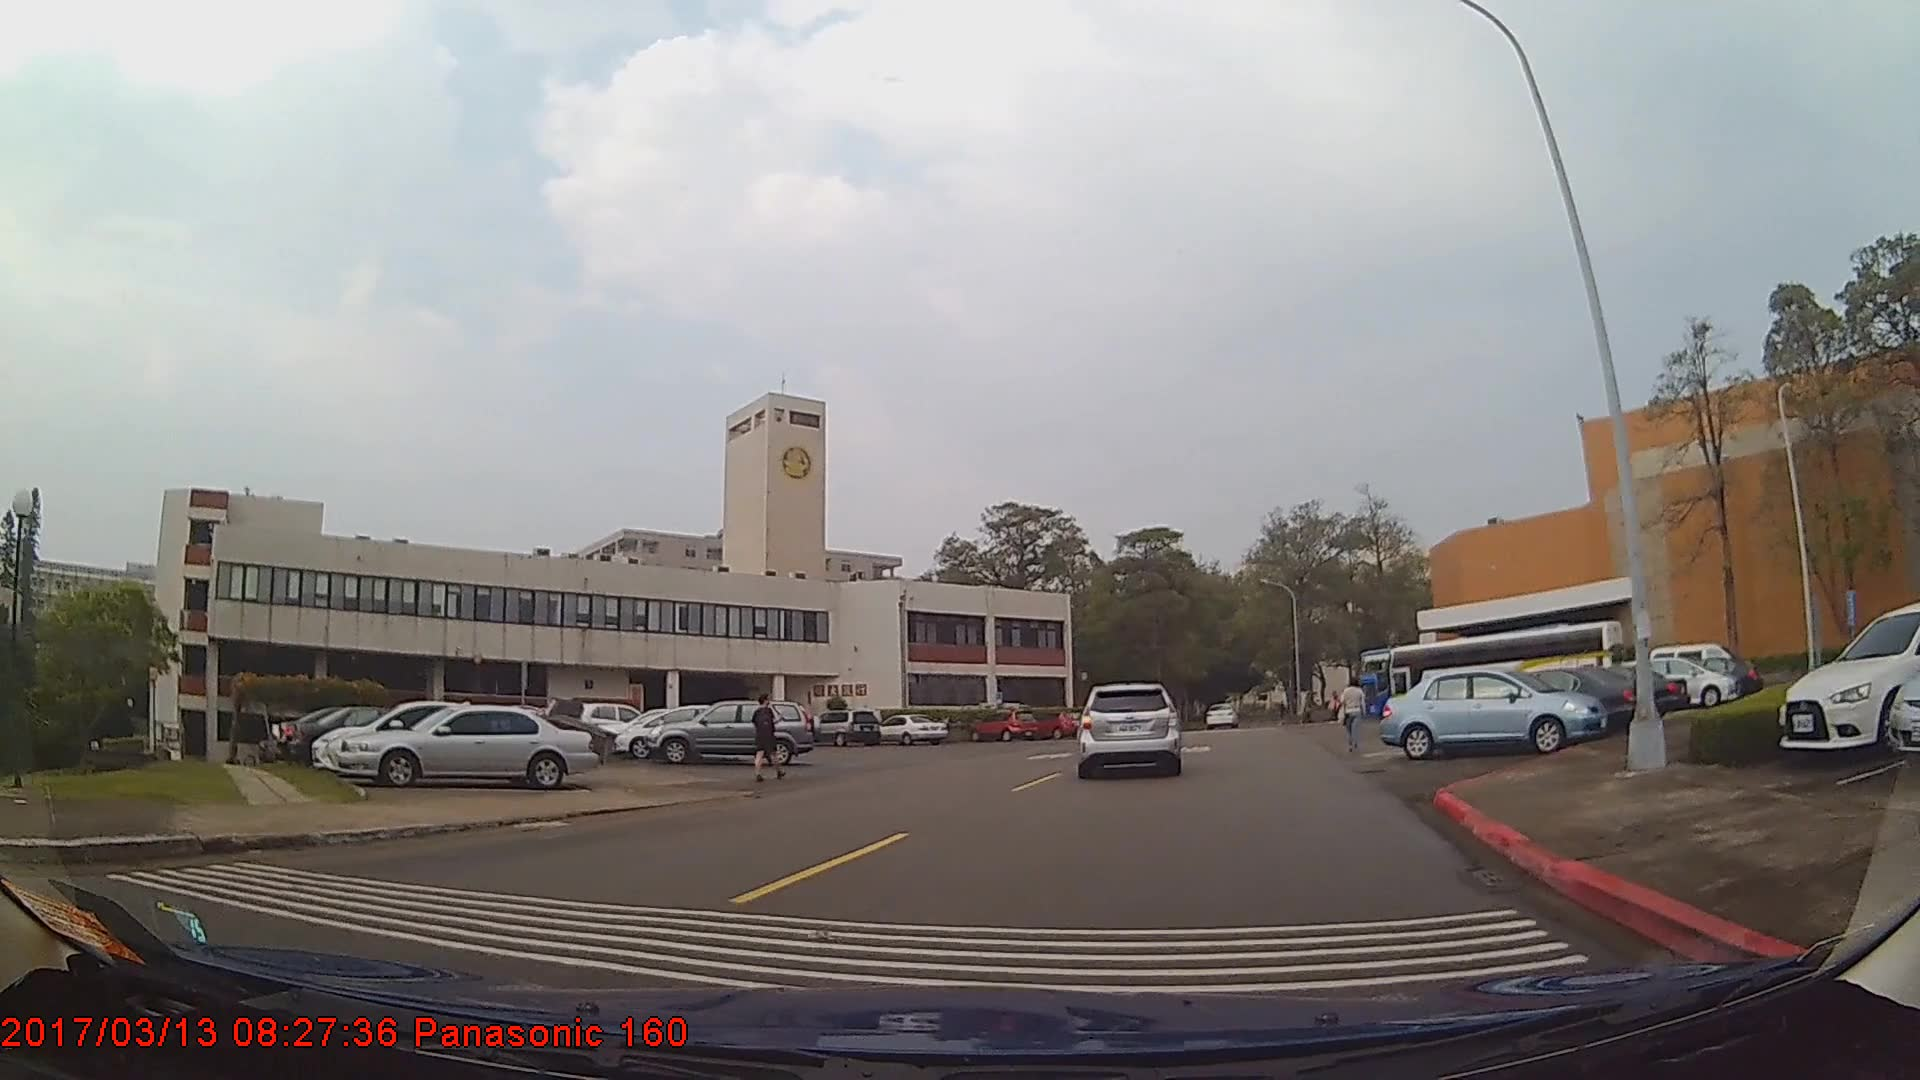pedestrian: (748, 693, 781, 781), (1340, 678, 1368, 752)
vehicle: (332, 703, 598, 789), (1379, 664, 1610, 758), (1778, 602, 1920, 750), (307, 697, 530, 776), (1451, 664, 1649, 732), (642, 699, 819, 765), (289, 704, 473, 765), (1078, 680, 1180, 780), (1519, 663, 1686, 720), (613, 704, 753, 762), (1624, 655, 1742, 703), (578, 700, 657, 745), (808, 708, 879, 749), (966, 706, 1039, 743), (873, 713, 946, 745), (1204, 702, 1240, 729)
